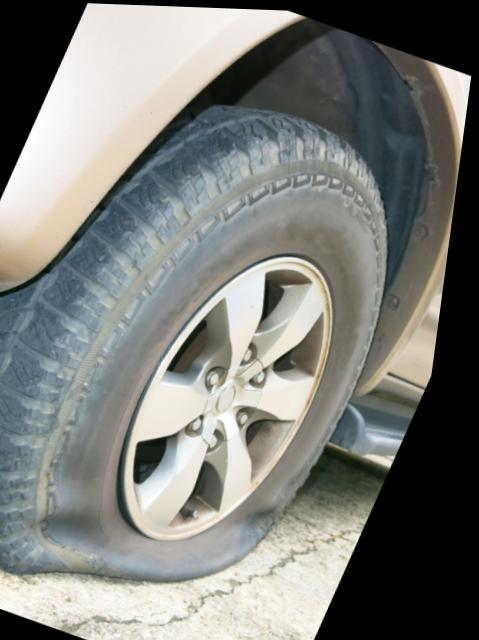tire flat: (0, 99, 394, 578)
